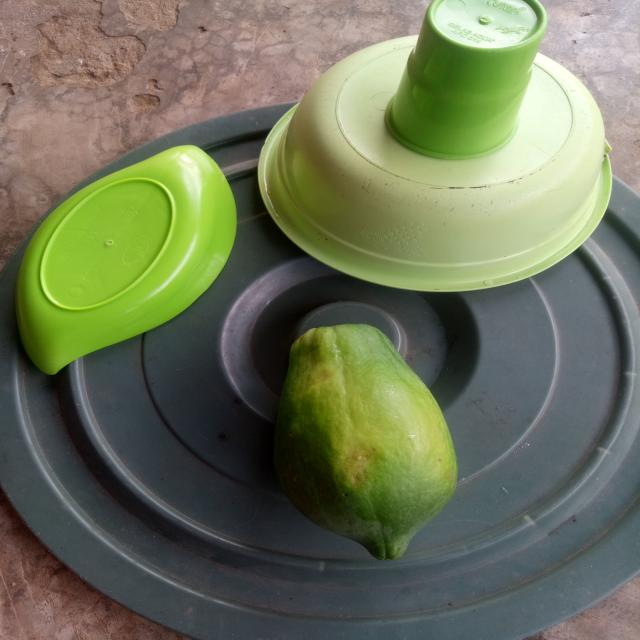Pepaya unrippen: (281, 320, 459, 561)
